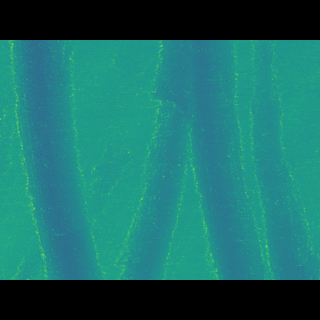Loch: (191, 68, 320, 249), (5, 70, 103, 250), (112, 70, 193, 249)
